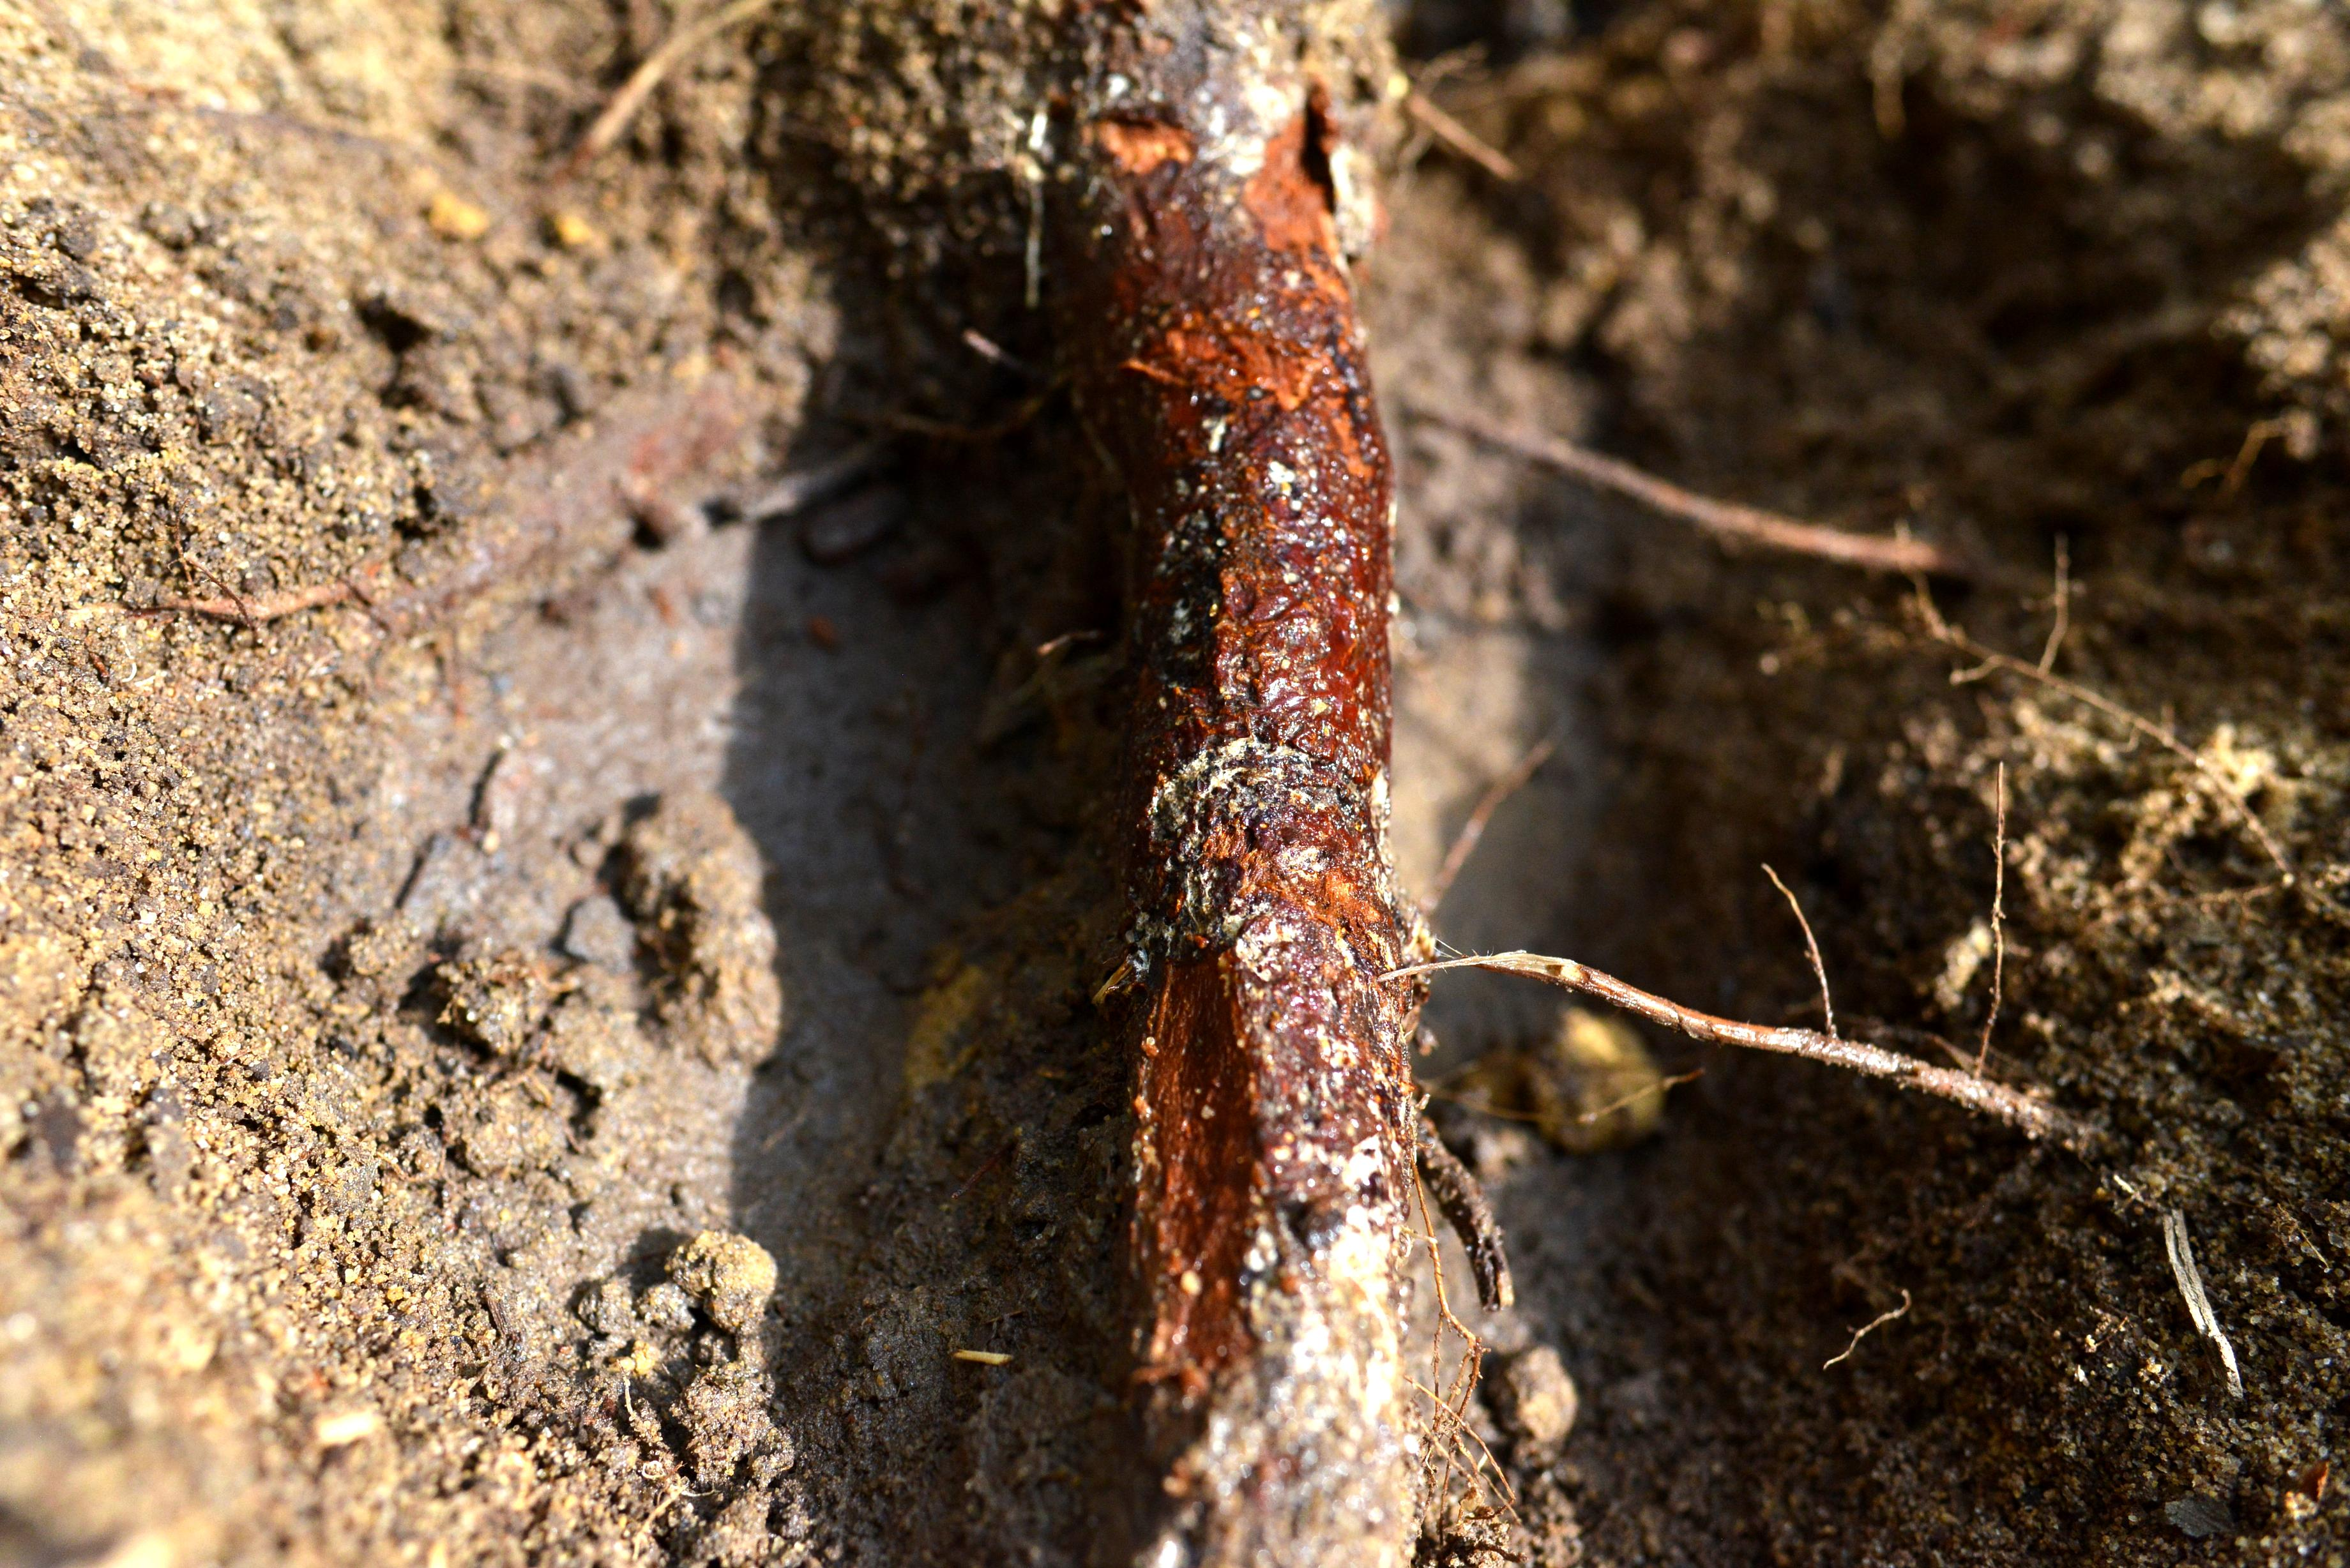Ganoderma - Mycelium: (1197, 1160, 1426, 1568), (1130, 728, 1398, 941), (1188, 364, 1351, 528)
Red Root Rot - Secretion: (1099, 131, 1414, 1151)
